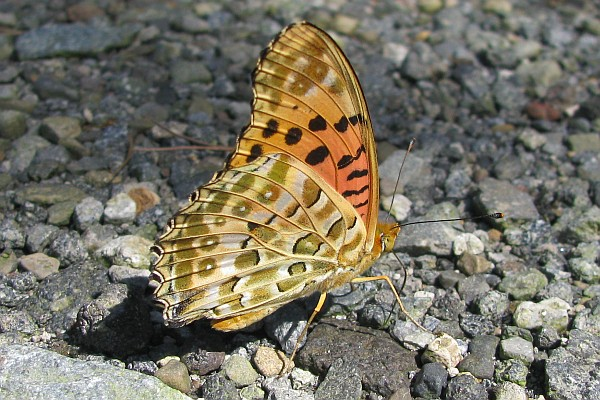Argyreus hyperbius: (144, 9, 511, 371)
butterfly: (146, 11, 513, 373)
